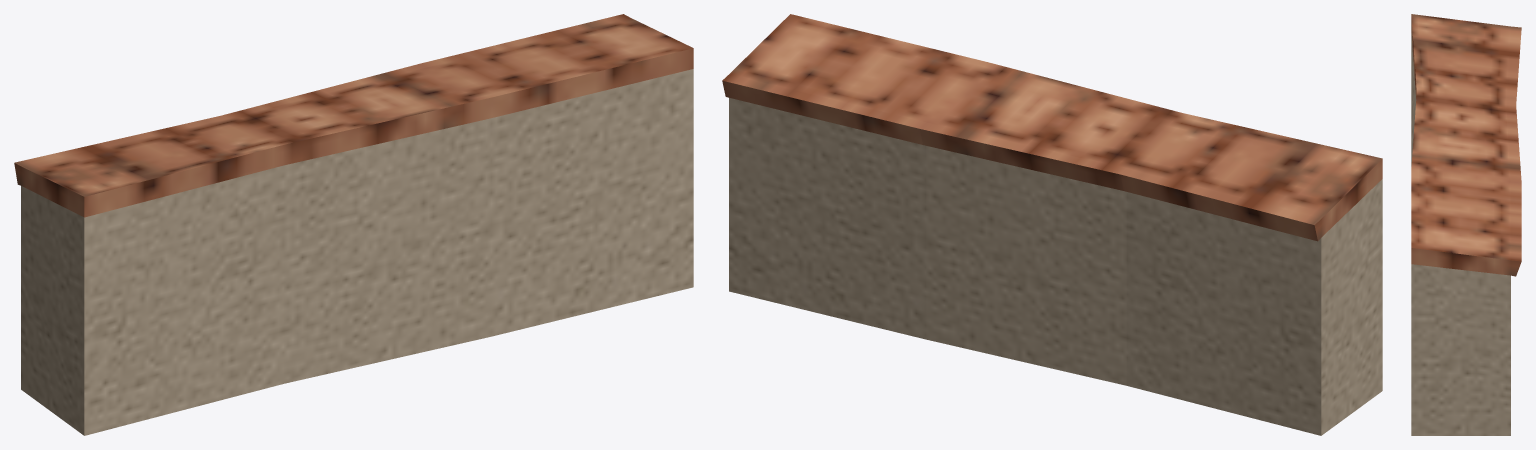
Rendered from Urban_PlasterWall_Model.fbx.
3 renders of one model, left to right at view 1: azimuth 30°, elevation 25°; view 2: azimuth 150°, elevation 25°; view 3: azimuth 270°, elevation 25°, orthographic. The views are drawn at different scales.
Parts seen in each view (by area): view 1: Urban_PlasterWall_Mesh; view 2: Urban_PlasterWall_Mesh; view 3: Urban_PlasterWall_Mesh.
Part boxes in pixels (x1,y1,x2,y2): Urban_PlasterWall_Mesh: (14, 14, 693, 435); Urban_PlasterWall_Mesh: (722, 14, 1382, 435); Urban_PlasterWall_Mesh: (1411, 14, 1521, 435).
Bounding box in the file's own units: 2 × 0.7498 × 0.3991.
